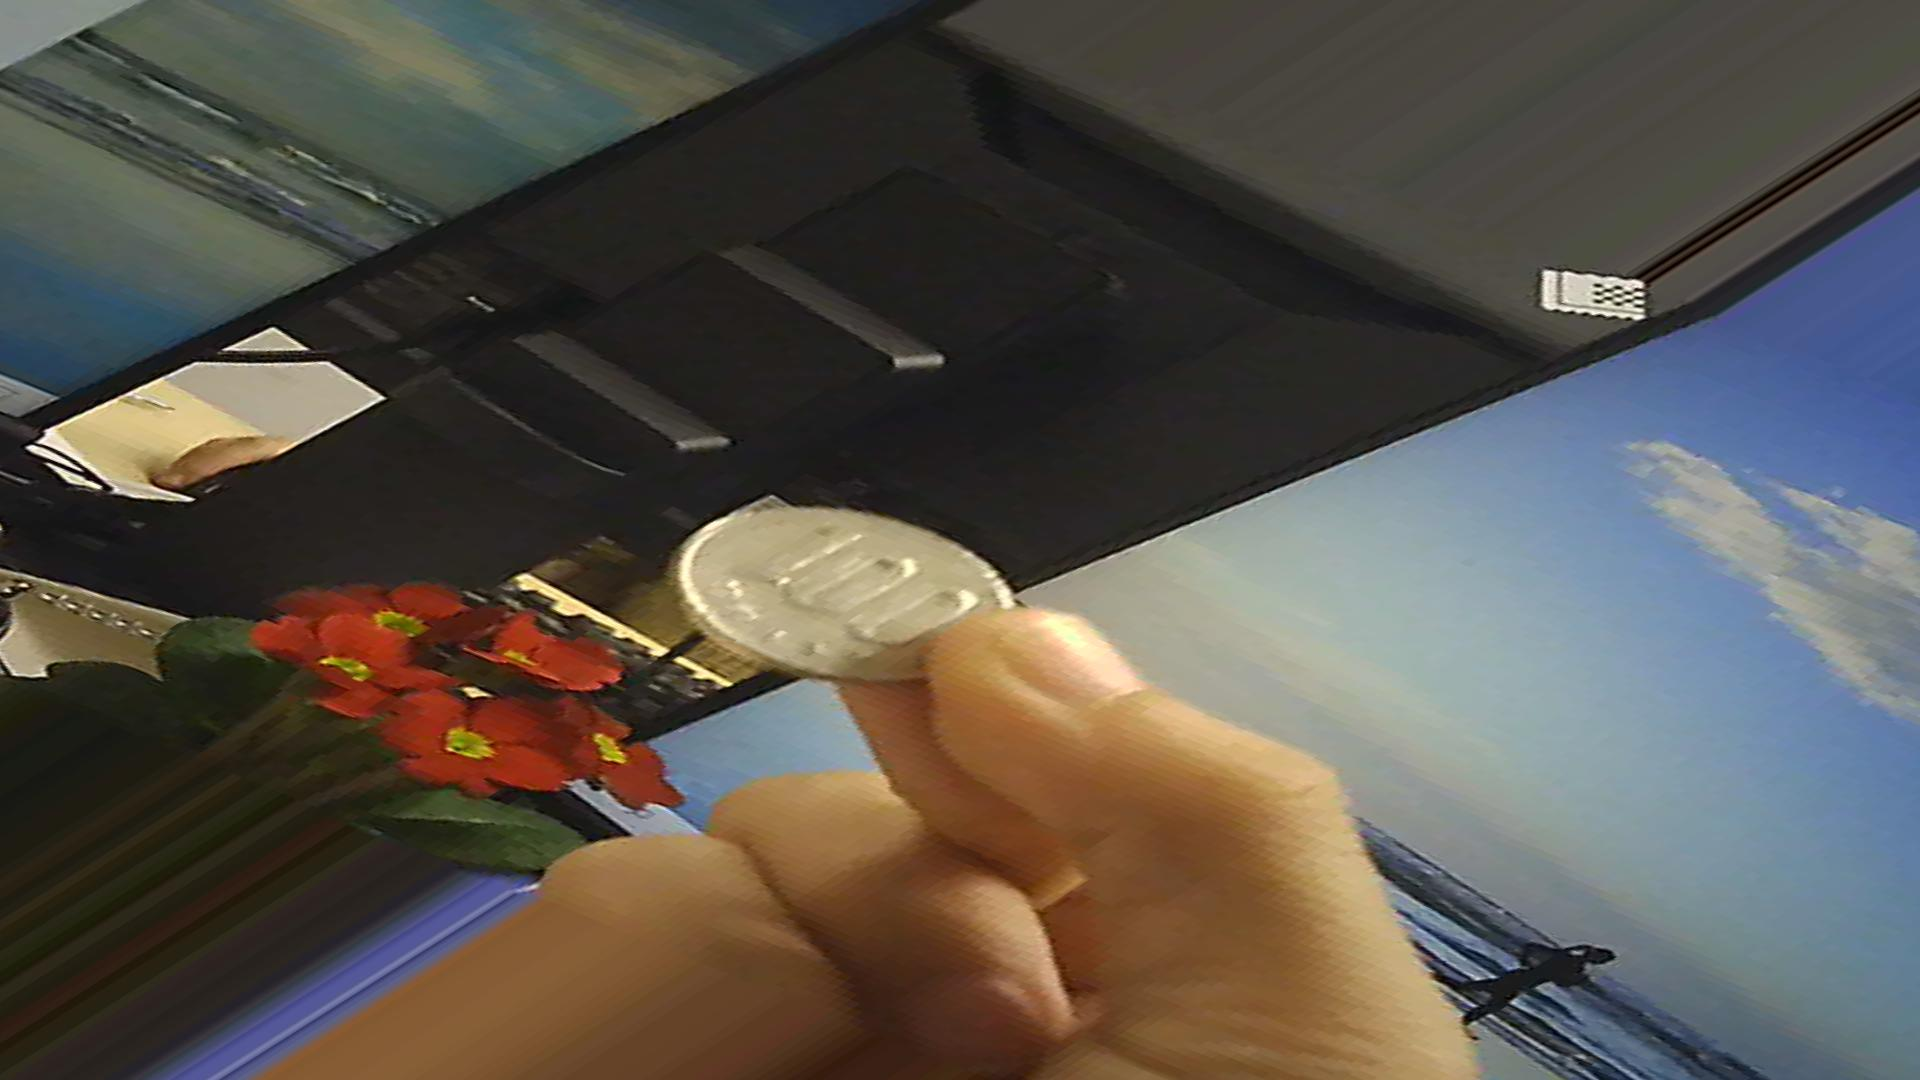100 Yen: (661, 495, 1030, 698)
